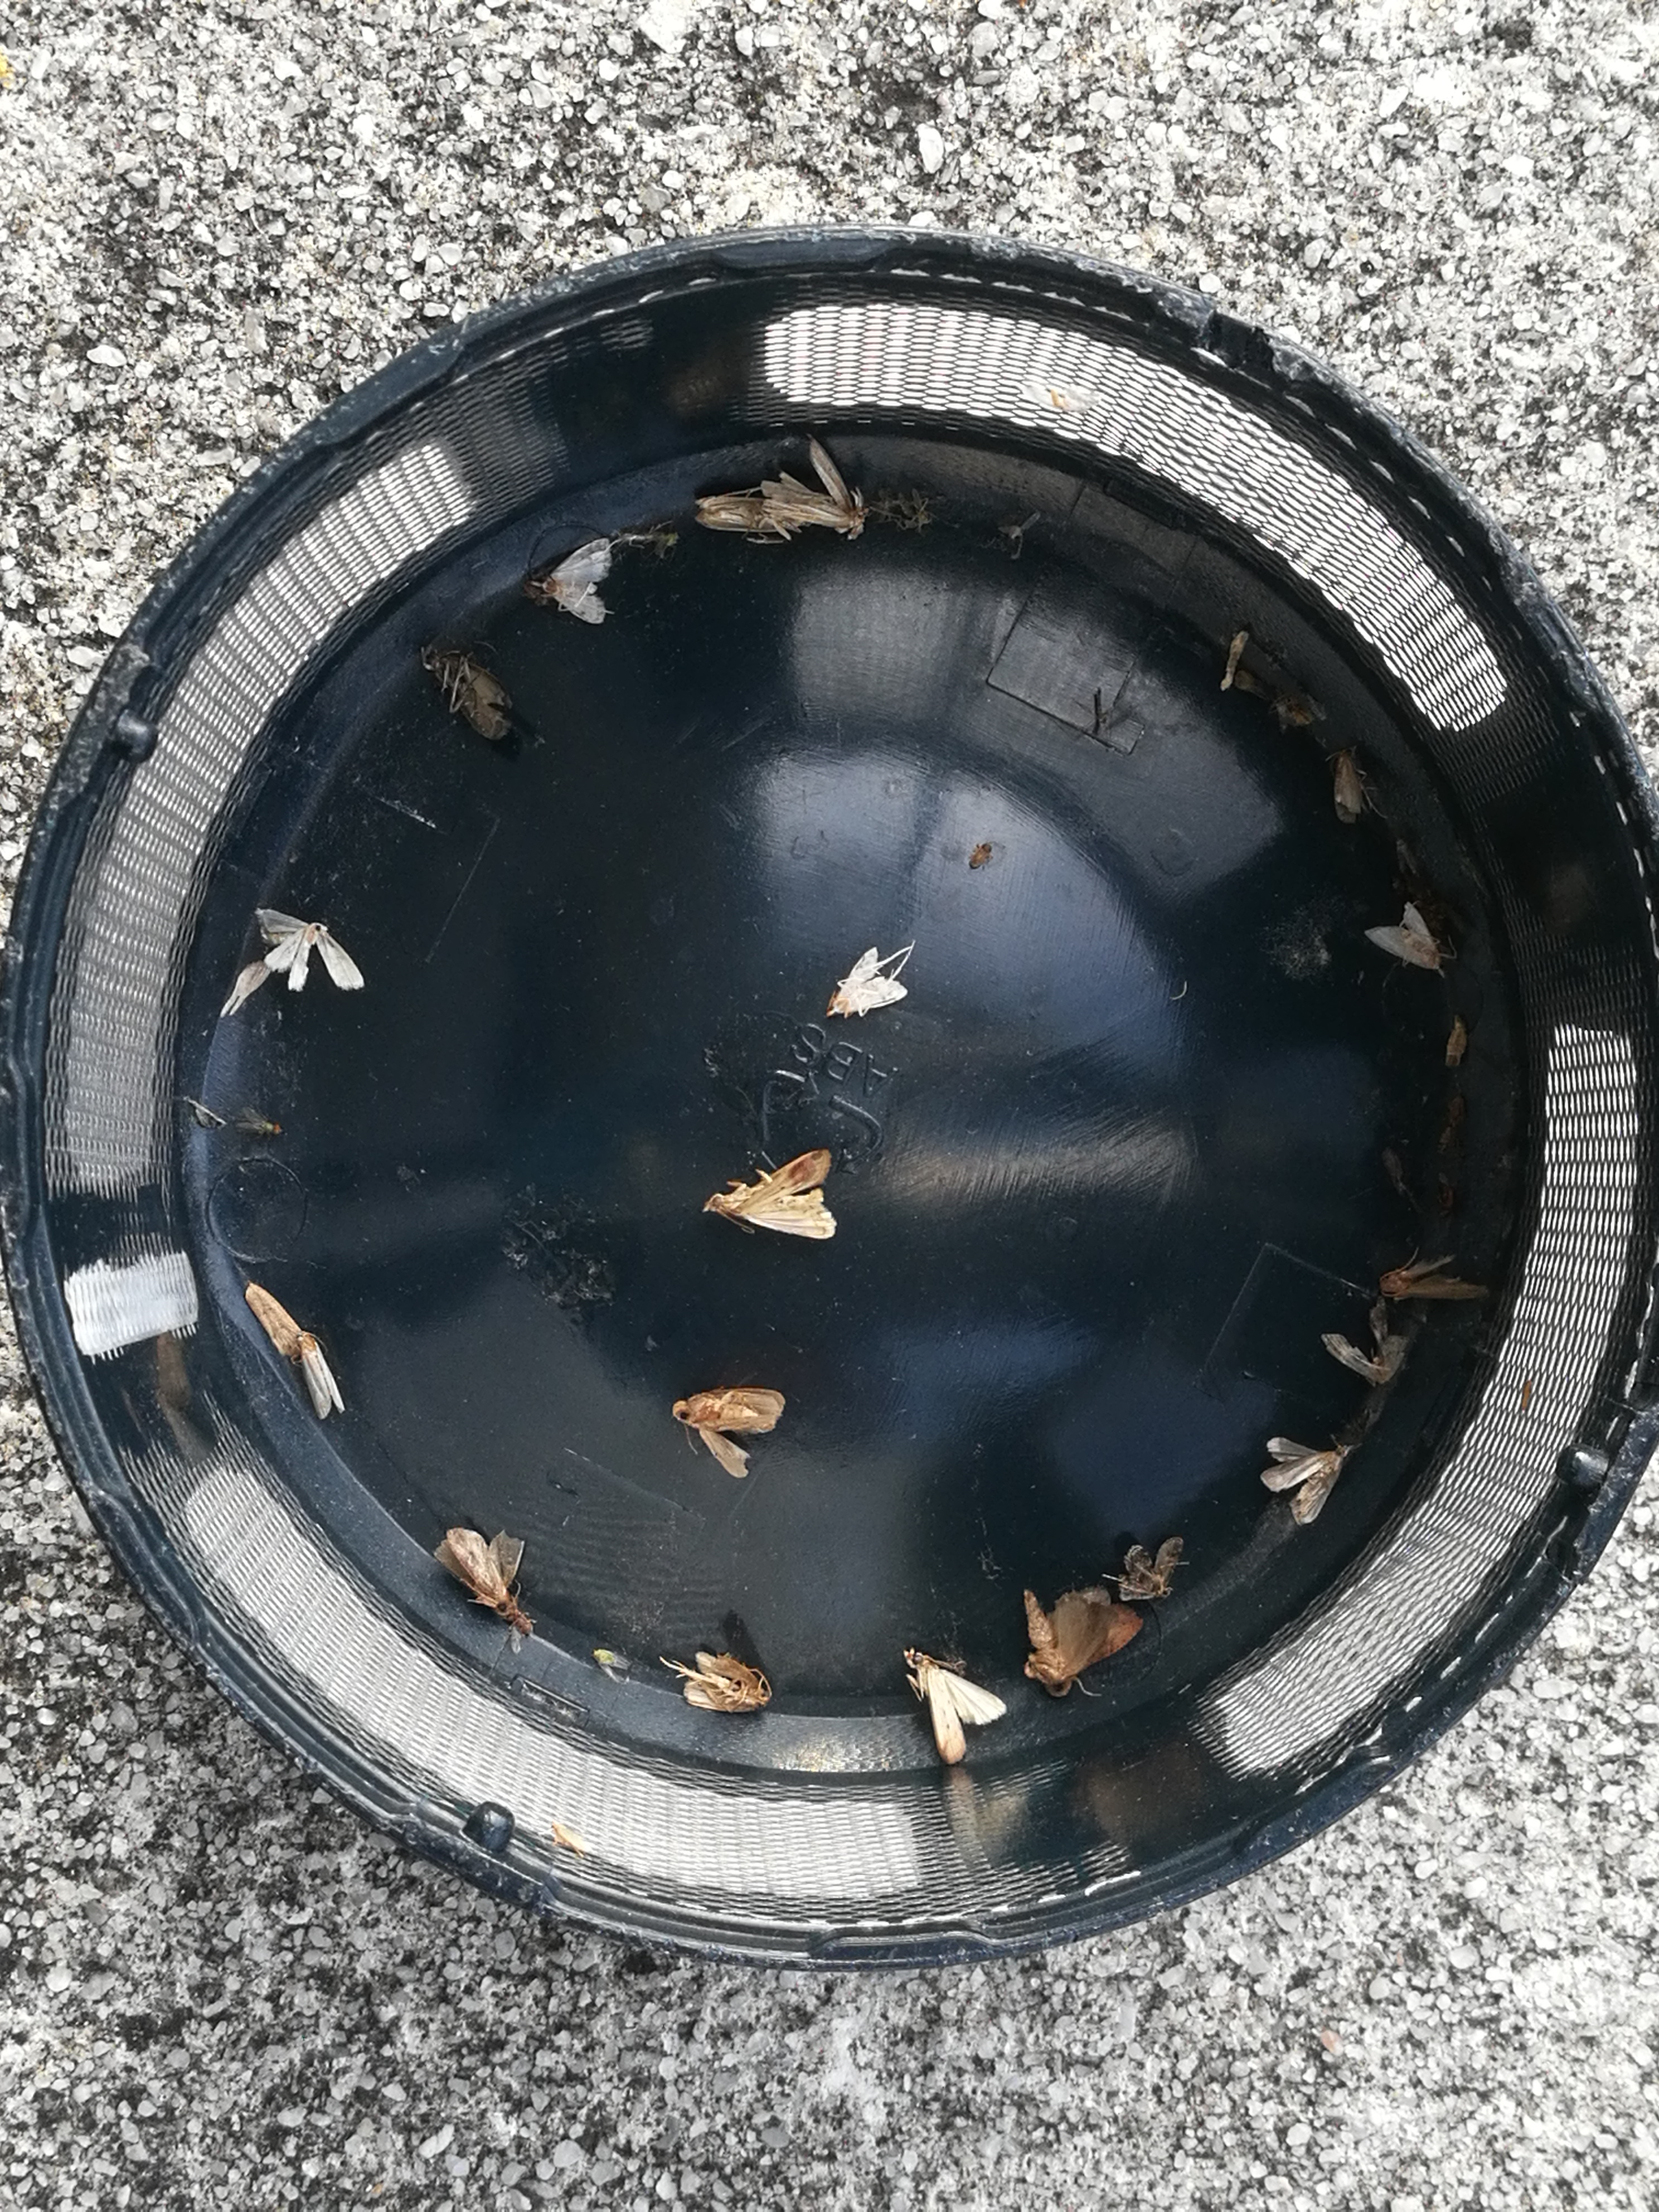mosquito: (298, 1329, 342, 1421), (1382, 1268, 1488, 1301)
moth: (1025, 1587, 1141, 1700), (904, 1648, 1006, 1763), (706, 1150, 835, 1238), (673, 1390, 782, 1477), (763, 442, 864, 535), (422, 646, 514, 740), (261, 909, 362, 991), (436, 1529, 523, 1616), (1263, 1440, 1344, 1522), (544, 540, 612, 620), (831, 946, 906, 1015), (681, 1649, 767, 1710), (1366, 904, 1443, 968), (1122, 1538, 1185, 1601), (1324, 1336, 1405, 1383), (1335, 749, 1358, 824)
